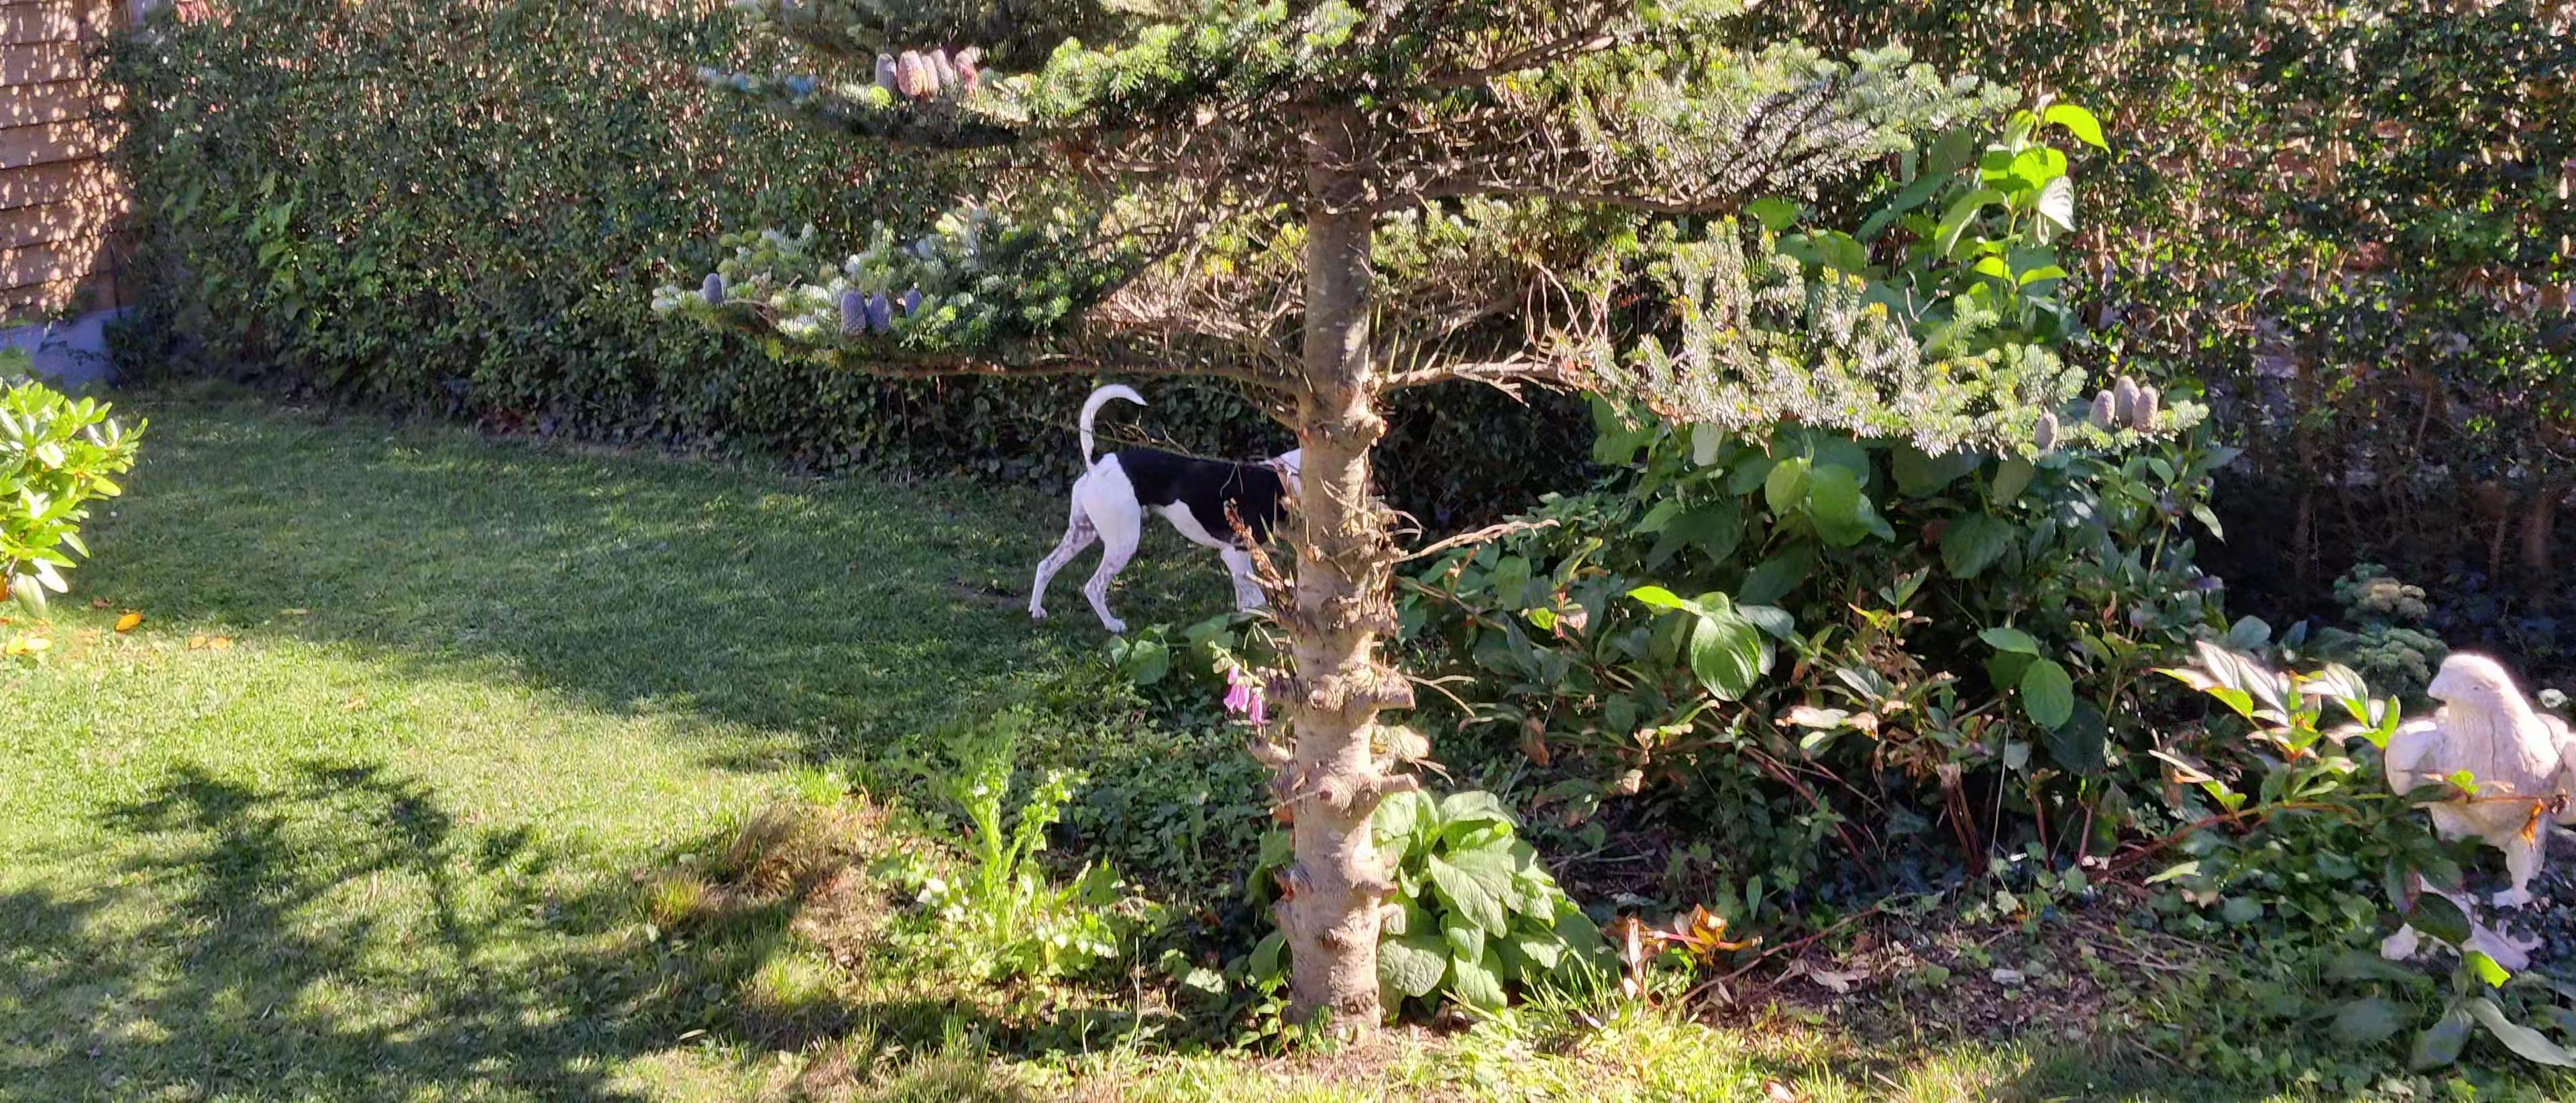Dog: (1019, 380, 1387, 635)
